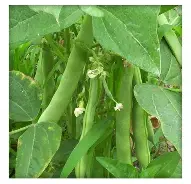crops: (7, 5, 181, 176)
